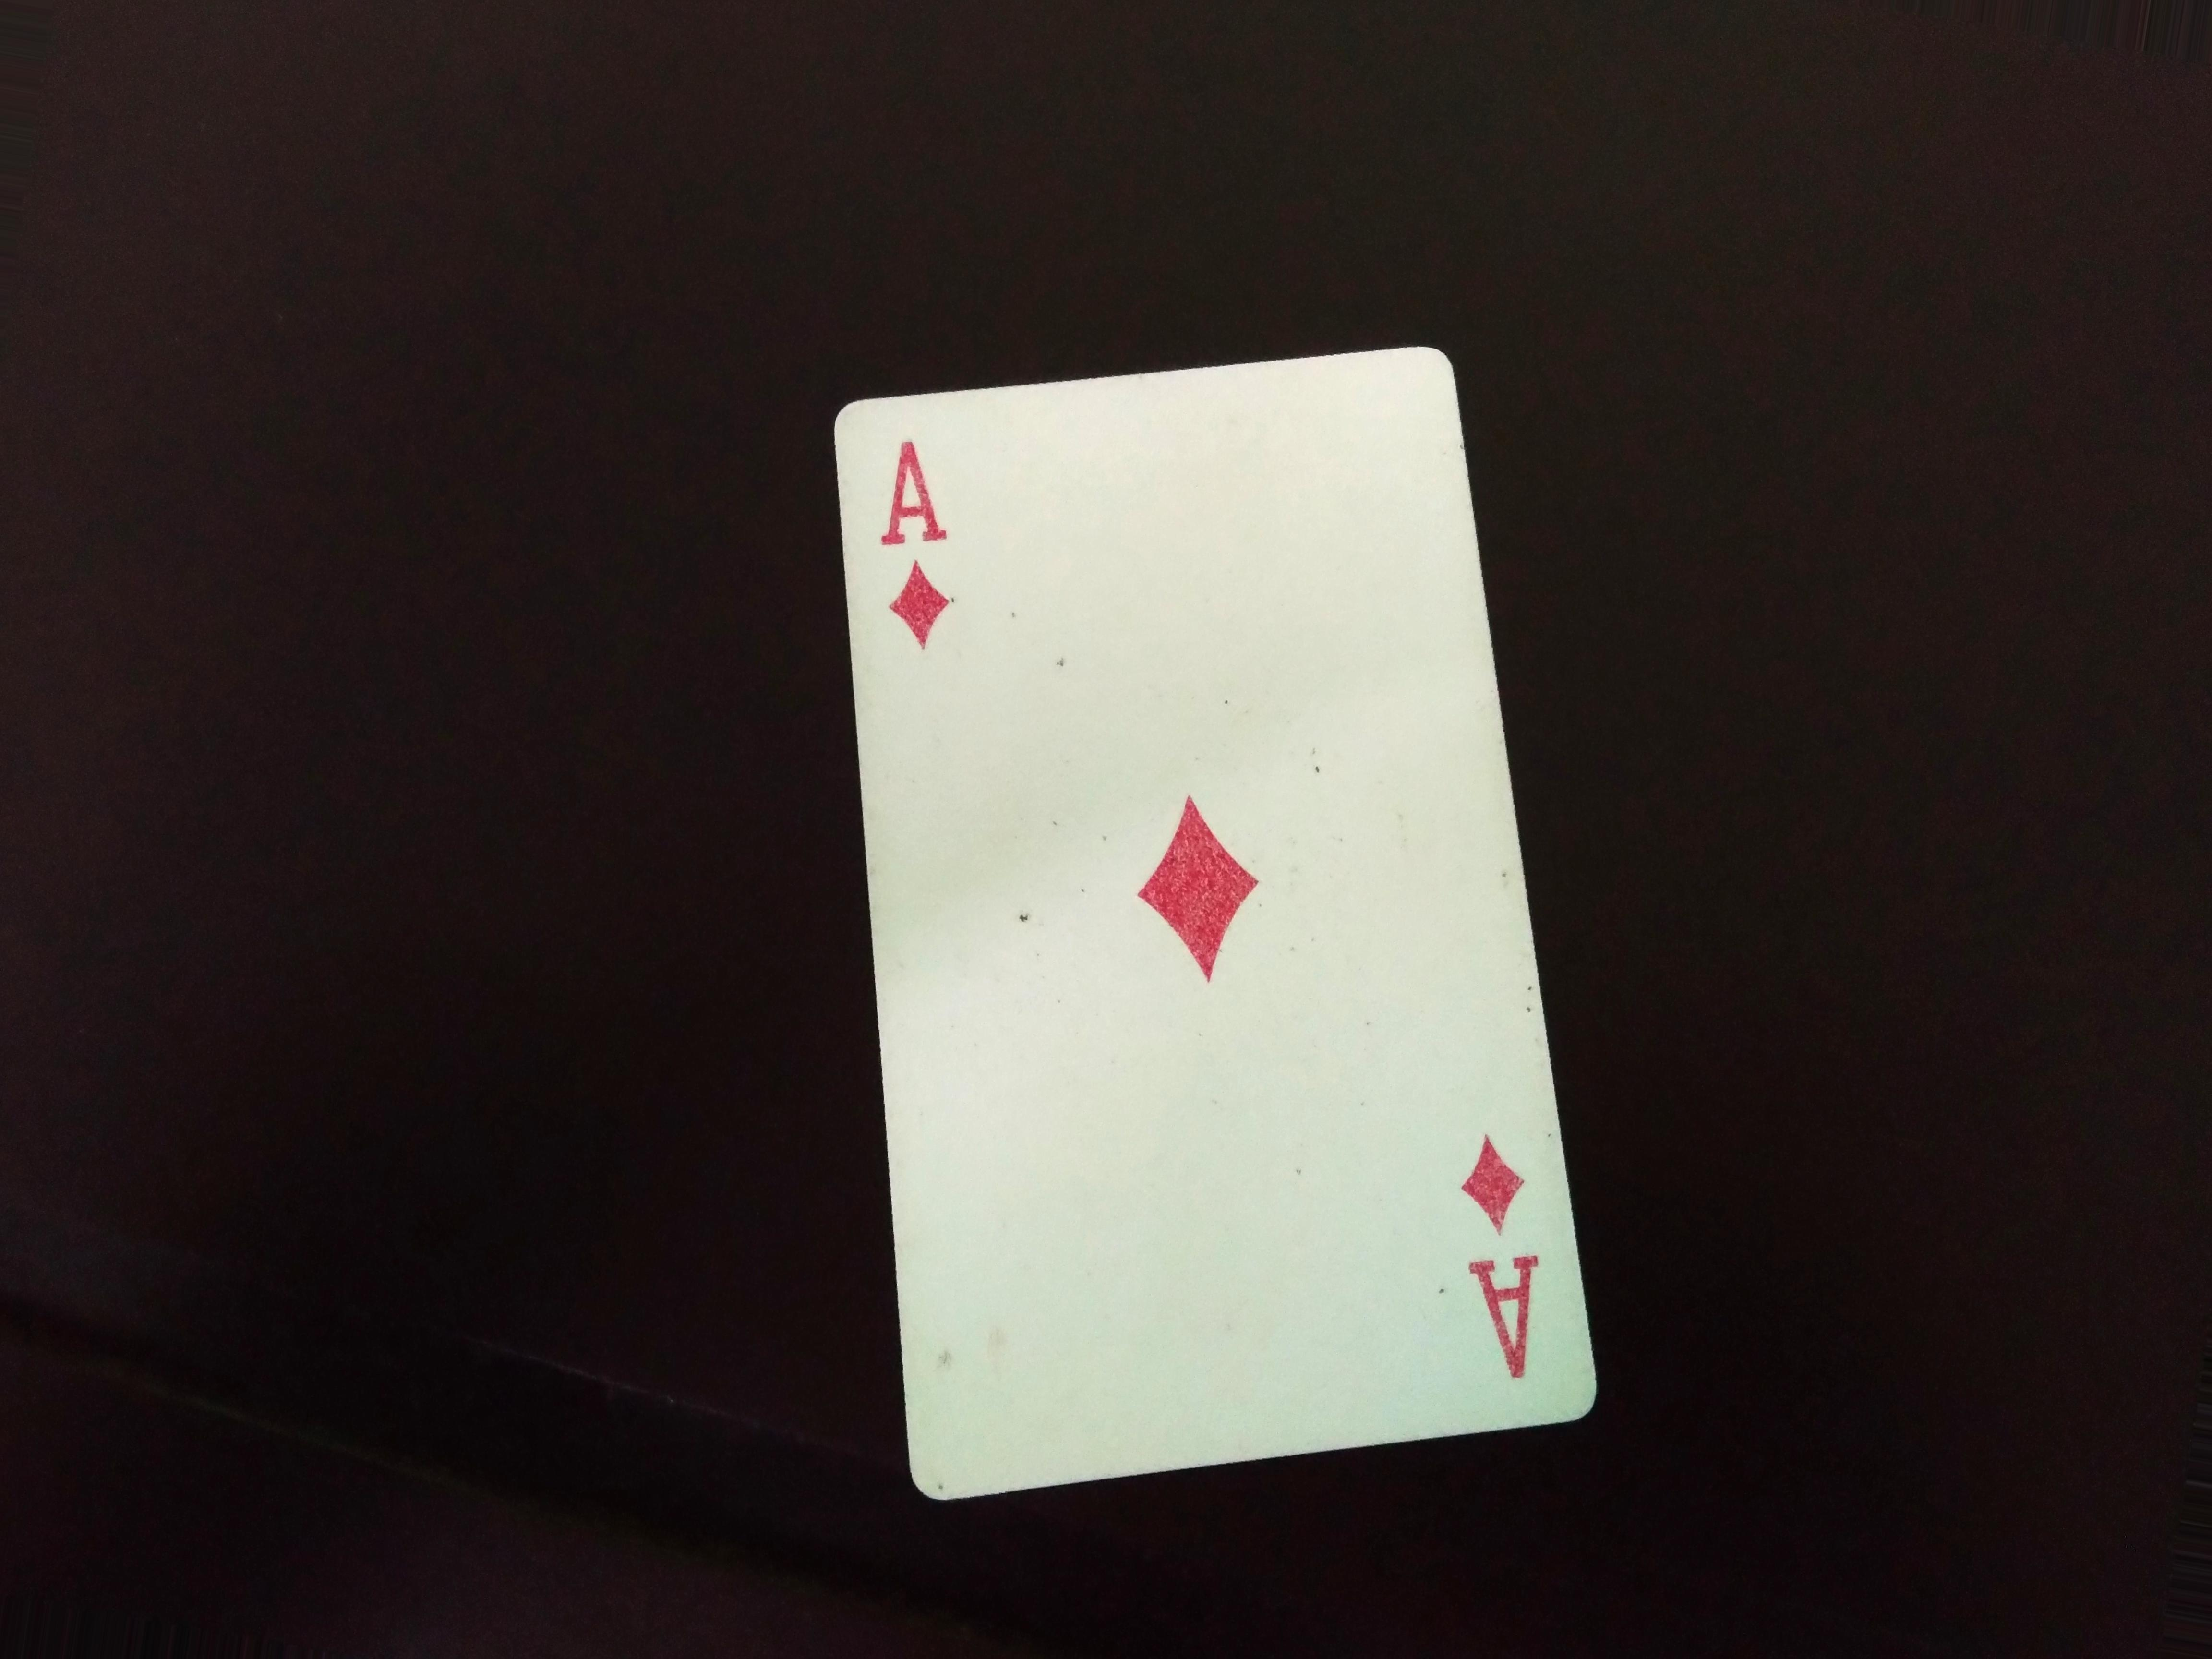AD: (883, 430, 972, 681)
